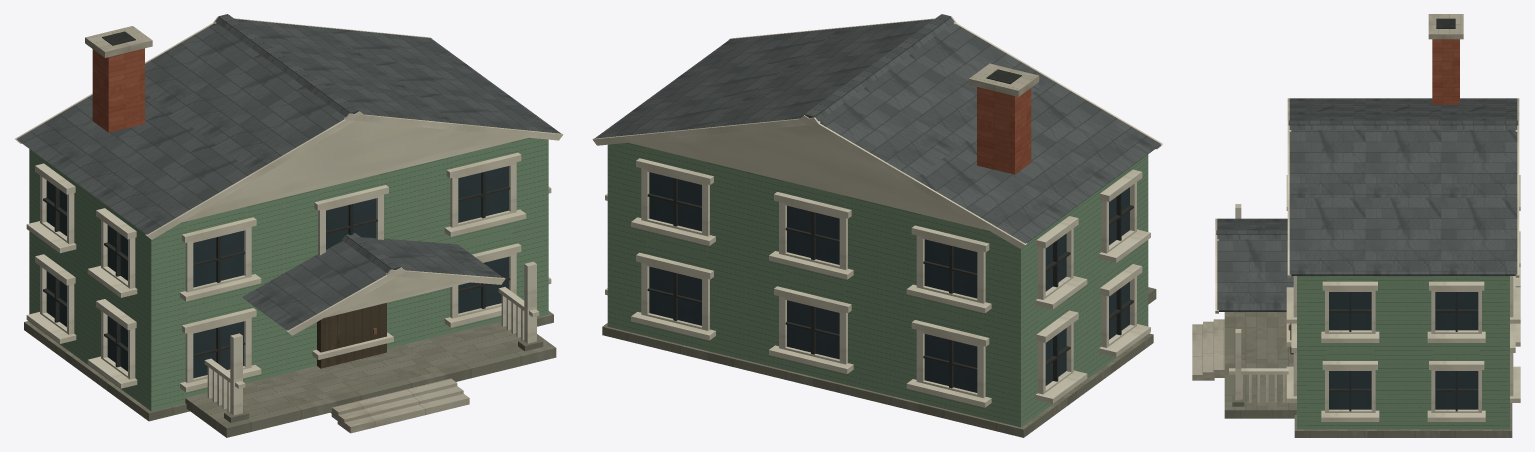
The model's file is suburb-house.glb.
The picture shows the model from 3 angles, left to right: view 1: azimuth 30°, elevation 25°; view 2: azimuth 150°, elevation 25°; view 3: azimuth 270°, elevation 25°; orthographic projection. The views are drawn at different scales.
Visible parts, largest first — view 1: suburb-house.001; view 2: suburb-house.001; view 3: suburb-house.001.
Boxes of the visible parts, x1,y1,x2,y2 form: suburb-house.001: [15, 14, 563, 437]; suburb-house.001: [592, 14, 1162, 437]; suburb-house.001: [1192, 14, 1520, 437].
Size of the model in its own units: 7.5 by 5.16 by 5.68.
1 material, 1 textured.
